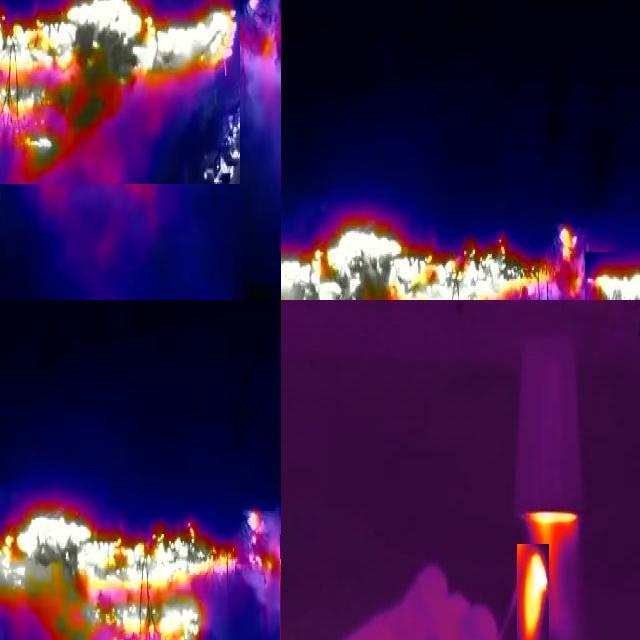fire: (1, 1, 241, 185), (1, 503, 274, 640), (282, 223, 539, 301), (247, 1, 282, 157), (526, 510, 580, 600), (539, 219, 585, 301), (518, 545, 550, 640)
